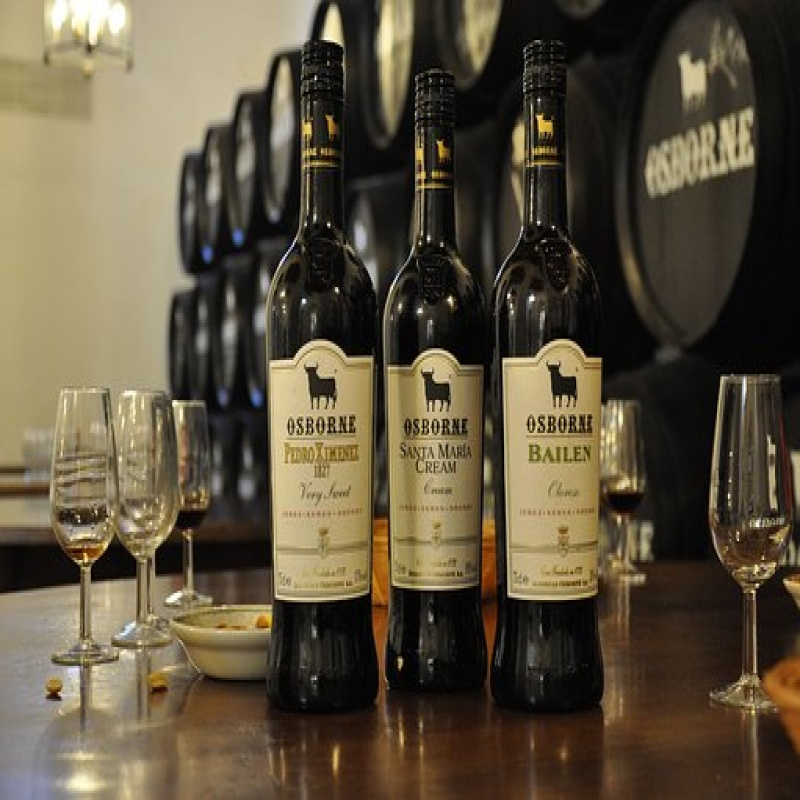wine: (256, 46, 382, 699), (492, 35, 608, 721), (388, 76, 489, 698)
